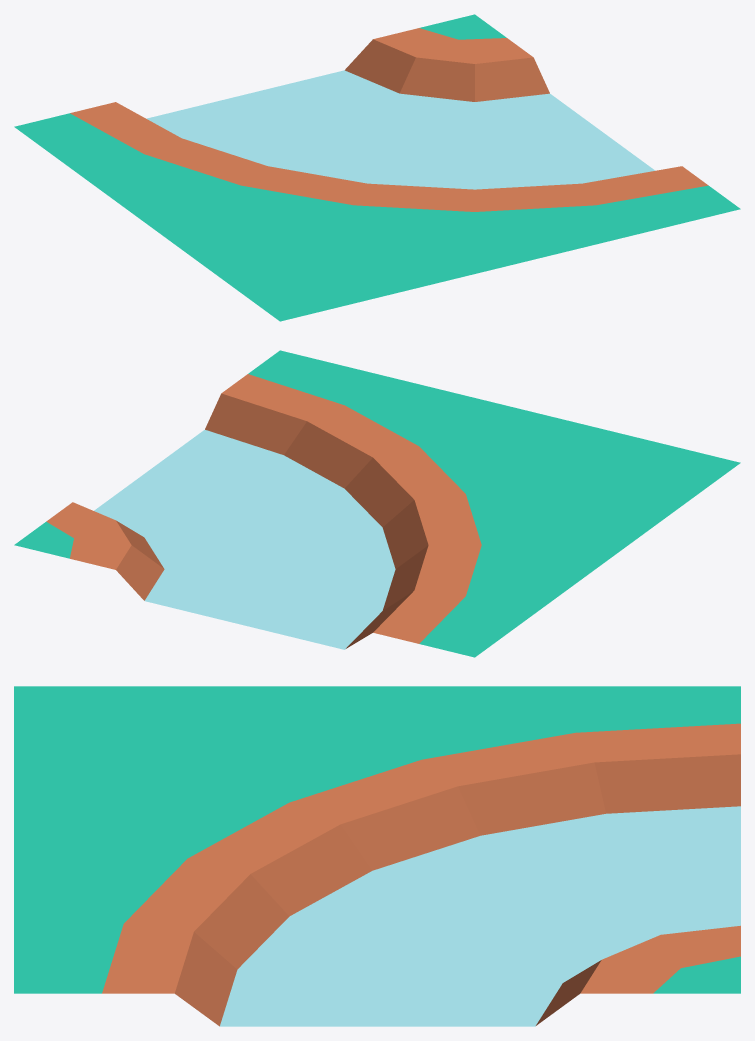
File: ground_riverBend.dae
The picture shows the model from 3 angles, top to bottom: view 1: azimuth 30°, elevation 25°; view 2: azimuth 150°, elevation 25°; view 3: azimuth 270°, elevation 25°; orthographic projection. The views are drawn at different scales.
Visible parts, largest first — view 1: ground_riverBend; view 2: ground_riverBend; view 3: ground_riverBend.
Boxes of the visible parts, bbox=[...] form: ground_riverBend: bbox=[14, 14, 740, 321]; ground_riverBend: bbox=[14, 350, 740, 657]; ground_riverBend: bbox=[14, 686, 740, 1026].
Size of the model in its own units: 1 by 0.05 by 1.
